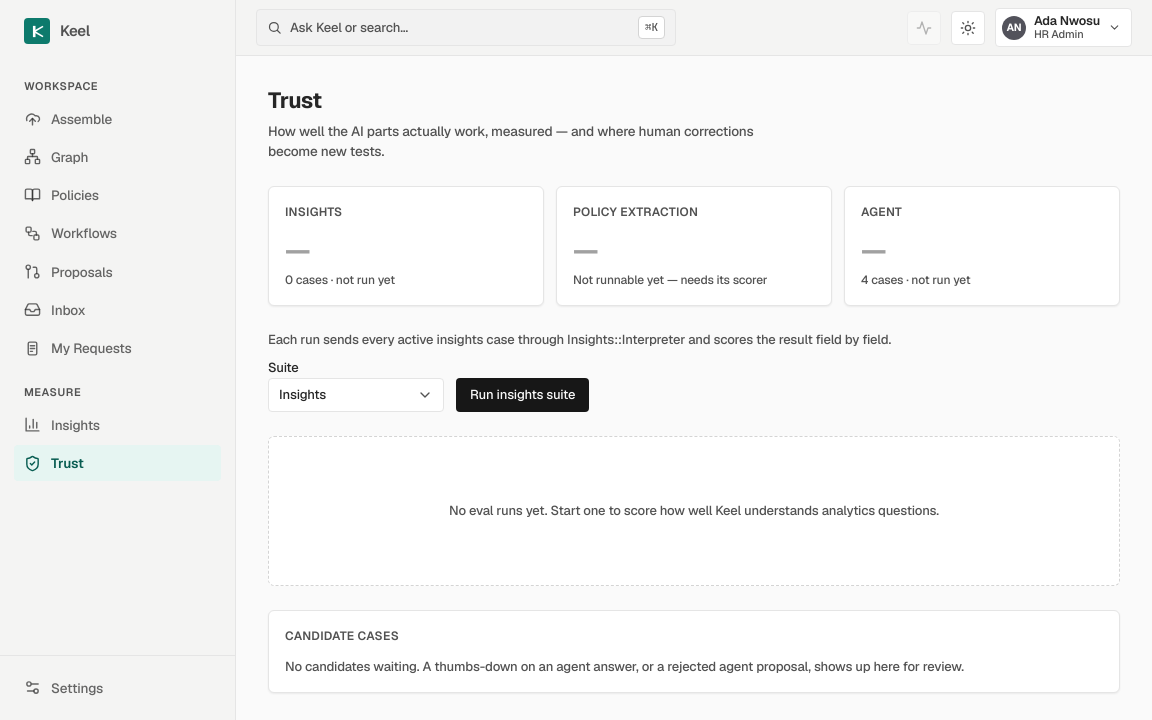
Scenario: /trust › says what the chosen suite scores while there are no runs, not always analytics
The image size is (1152, 720).
Check: the text "score how well Keel understands analytics questions" is shown, box [449,502,939,519]
Click the dropdown named "Suite".
click(356, 395)  # box [268,378,444,412]
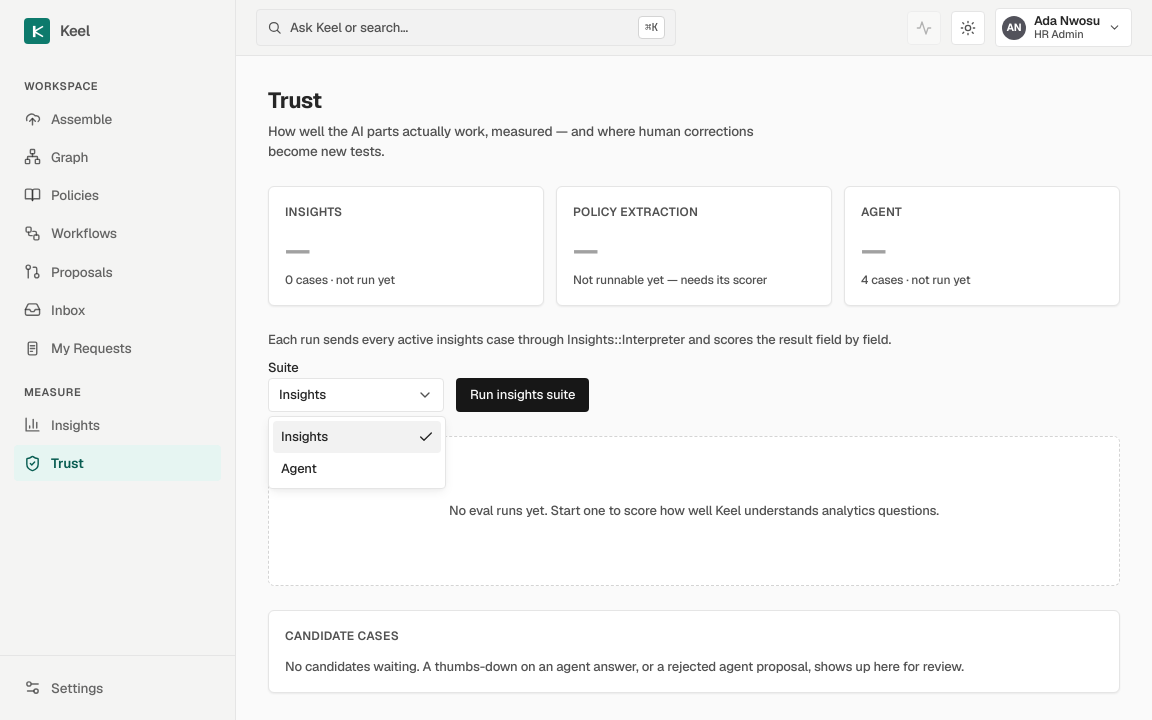
Click the option "Agent".
click(299, 468)  # box [281,460,317,476]
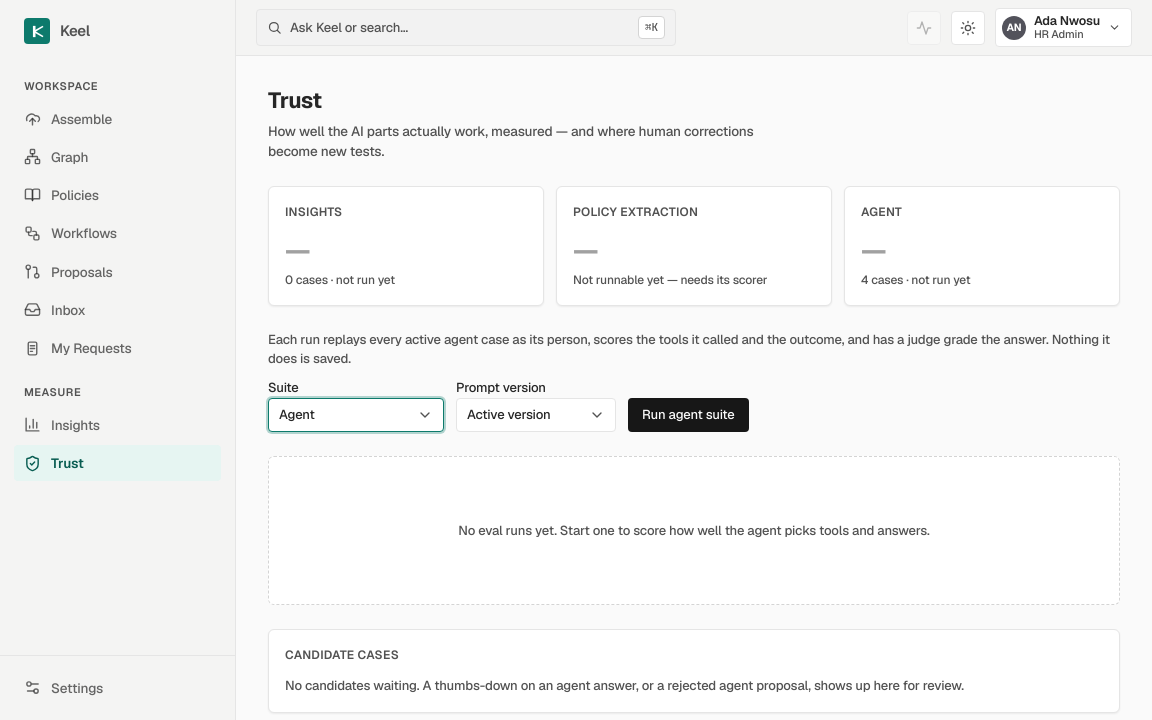
Check: the text "score how well the agent picks tools and answers" is shown, box [458,522,930,538]
Check: the text "analytics questions" is gone
